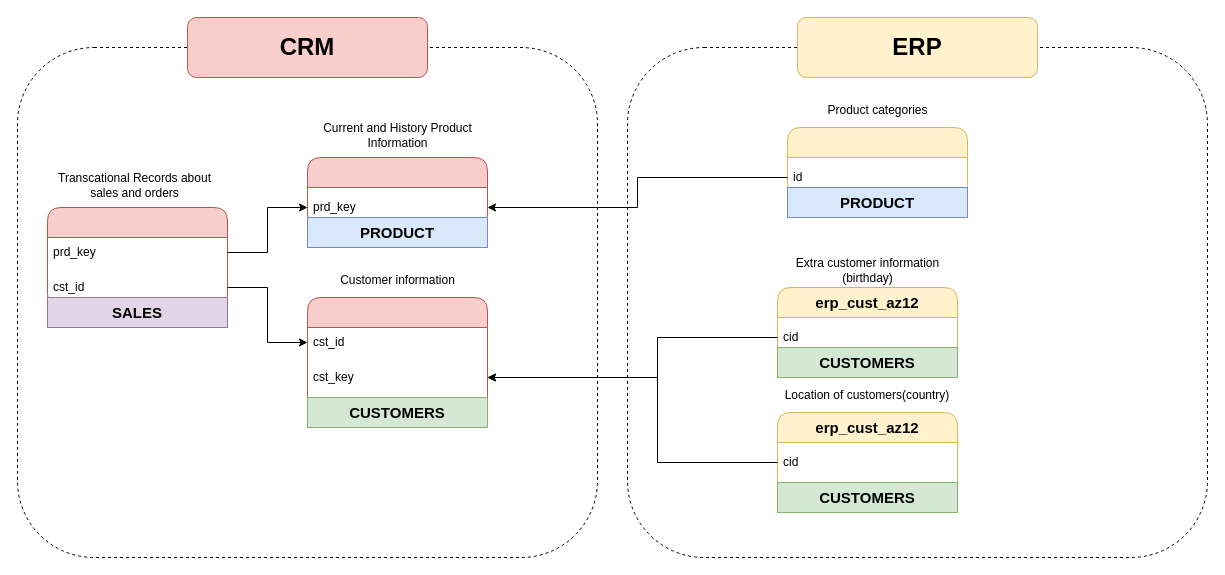
The diagram is 1225 pixels wide and 575 high, and some of its shapes have lost their labels. The box of each missing label's shape, as (x1, y1, x2, y2) in pixels:
crm_cust_info: (306, 296, 488, 428)
crm_prd_info: (306, 156, 488, 228)
crm_sales_details: (46, 206, 228, 308)
erp_px_cat_g1v2: (786, 126, 968, 198)
